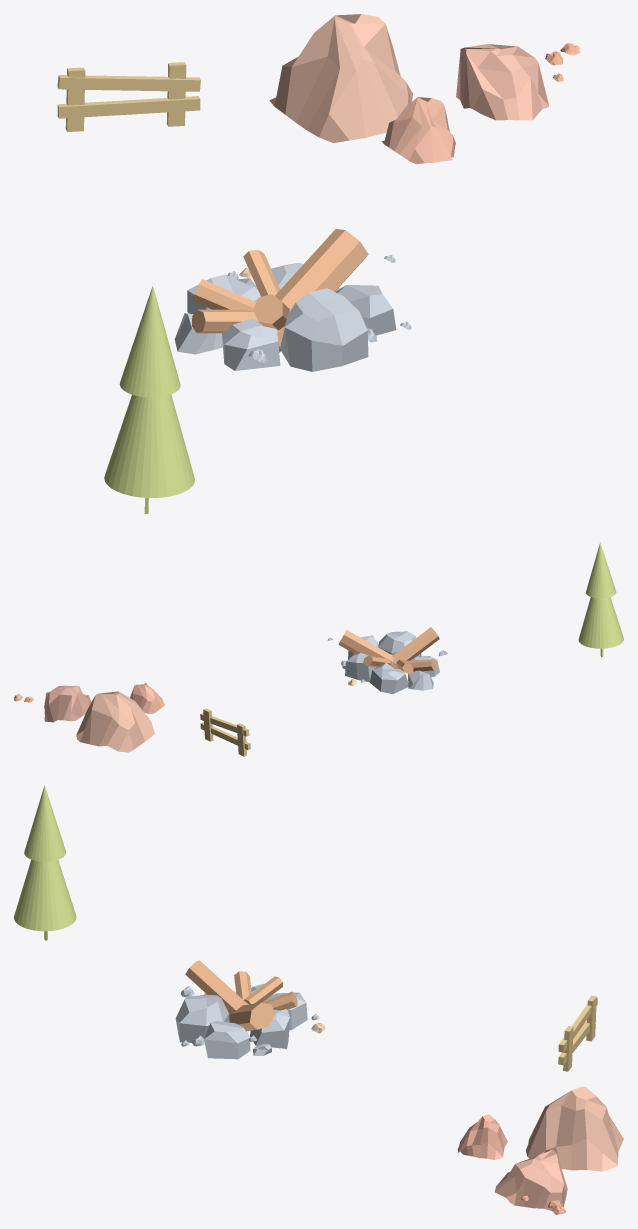
3 views of the same model, one above another, from view 1: azimuth 30°, elevation 25°; view 2: azimuth 150°, elevation 25°; view 3: azimuth 270°, elevation 25° (orthographic). The views are drawn at different scales.
Visible parts, largest first — view 1: Fireplace, Plane, Cube.002, Plane.005, Cube.004, Plane.004; view 2: Fireplace, Plane, Cube.002, Plane.005, Cube.004, Plane.004; view 3: Fireplace, Plane, Cube.002, Plane.005, Plane.004, Cube.004.
Part boxes in pixels (x1,y1,x2,y2): Fireplace: [174, 229, 396, 371]; Plane: [269, 14, 412, 142]; Cube.002: [104, 285, 194, 513]; Plane.005: [456, 44, 548, 120]; Cube.004: [57, 62, 200, 131]; Plane.004: [381, 97, 455, 164]; Fireplace: [338, 627, 439, 694]; Plane: [76, 691, 154, 752]; Cube.002: [578, 542, 623, 657]; Plane.005: [44, 685, 91, 722]; Cube.004: [200, 708, 250, 756]; Plane.004: [130, 683, 165, 713]; Fireplace: [175, 960, 307, 1059]; Plane: [526, 1086, 623, 1171]; Cube.002: [14, 785, 76, 940]; Plane.005: [495, 1149, 567, 1214]; Plane.004: [457, 1114, 507, 1159]; Cube.004: [558, 995, 597, 1071].
Size of the model in its own units: 0.5786 by 0.1734 by 0.5275.
